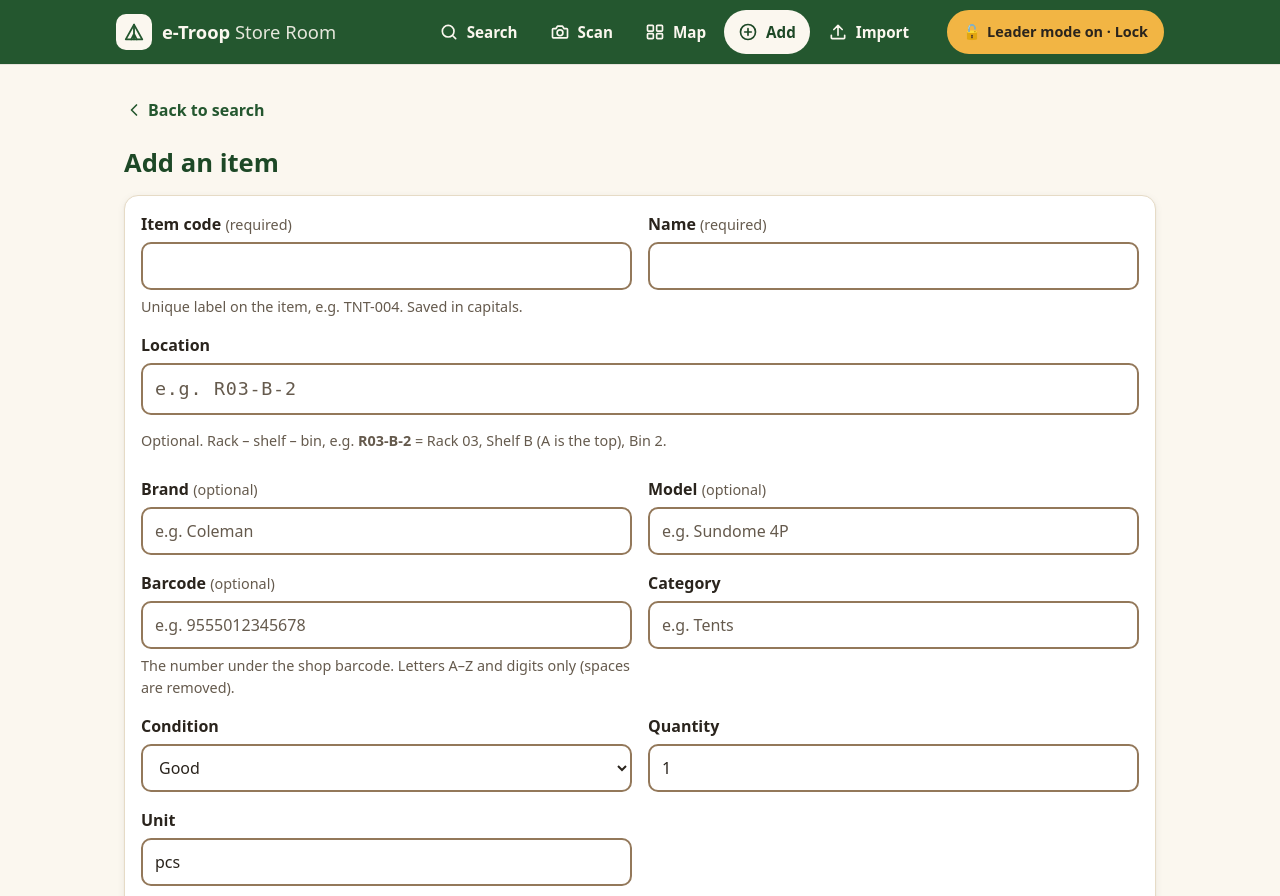
Test: Item form: limits and friendly server errors › shows a server condition error on the Condition field
The width and height of the screenshot is (1280, 896).
Type "X-1" into the field labelled "Item code (required)" at (386, 266), box left=141, top=242, right=632, bottom=290
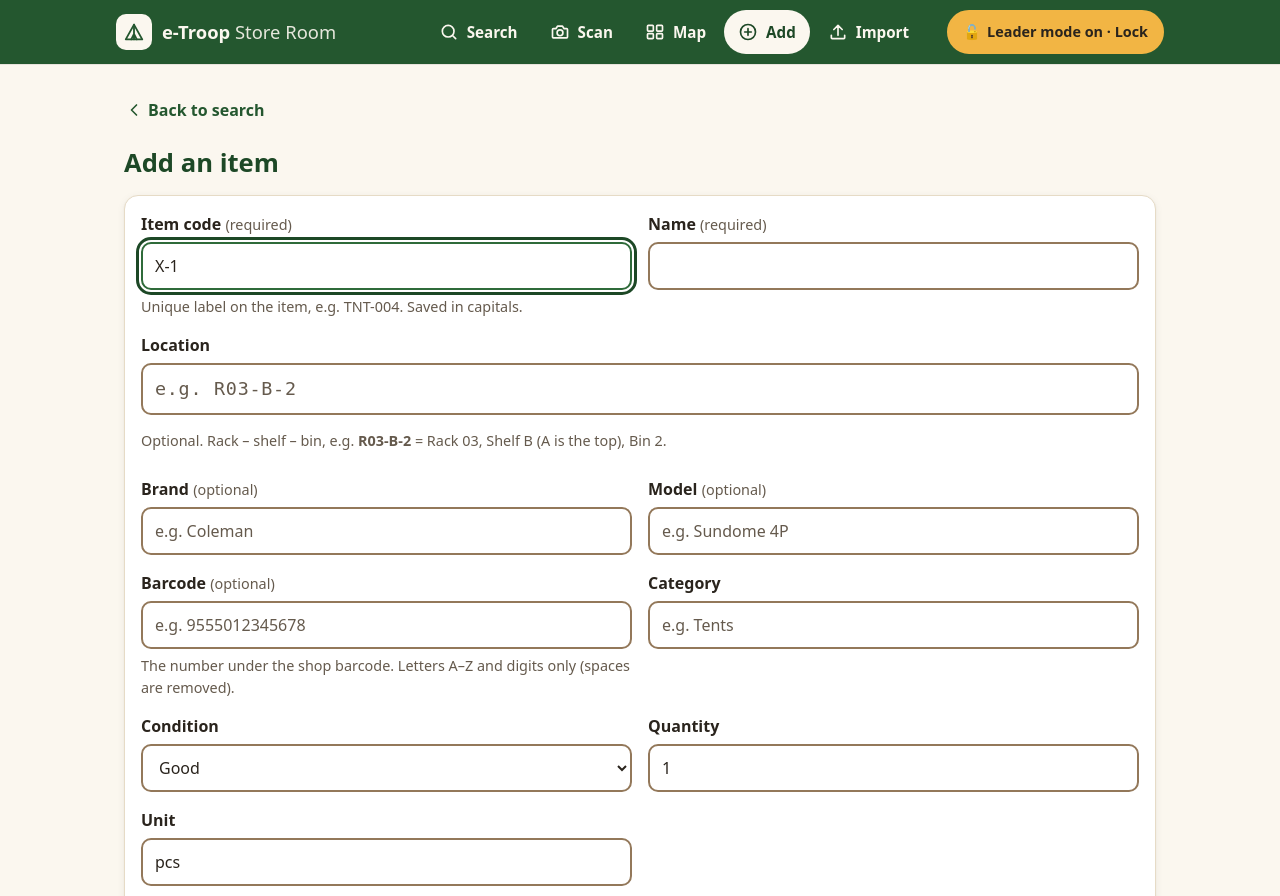
Type "n" into the field labelled "Name (required)" at (894, 266), box left=648, top=242, right=1139, bottom=290
(page scrolled)
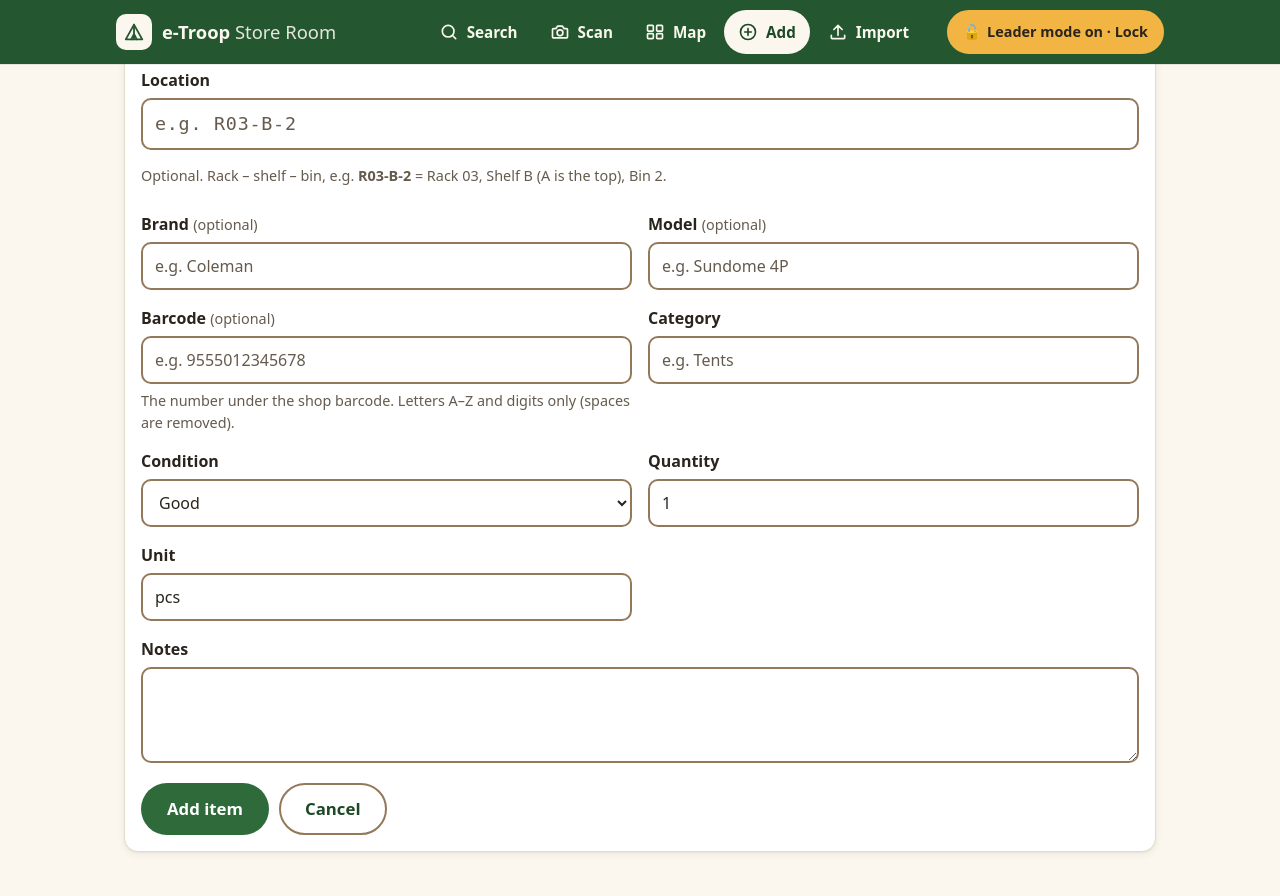
Click the button "Add item" at (205, 809), box left=141, top=783, right=269, bottom=835
(page scrolled)
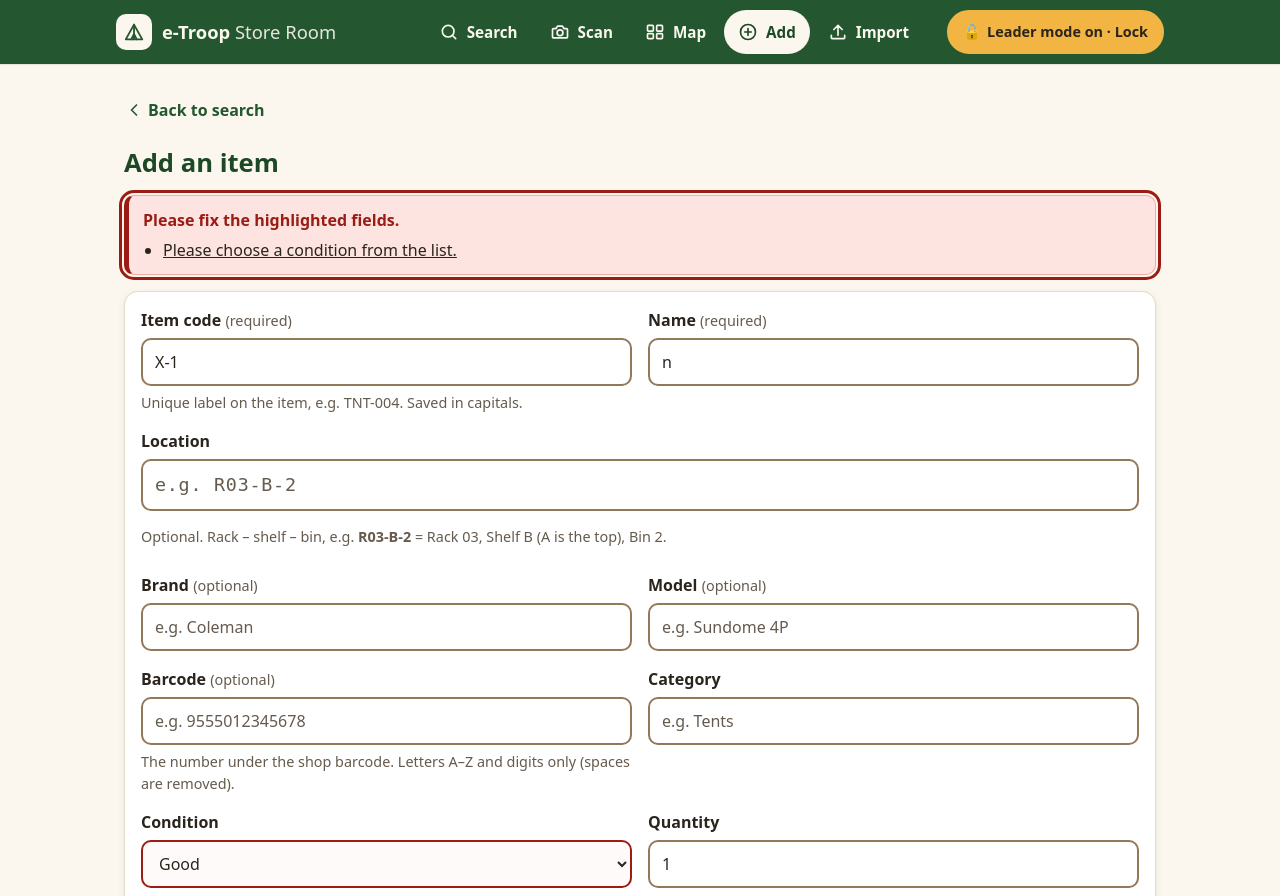
Expected: the message "Please fix the highlighted fields. Please choose a condition from the list." is shown, left=124, top=195, right=1156, bottom=275
